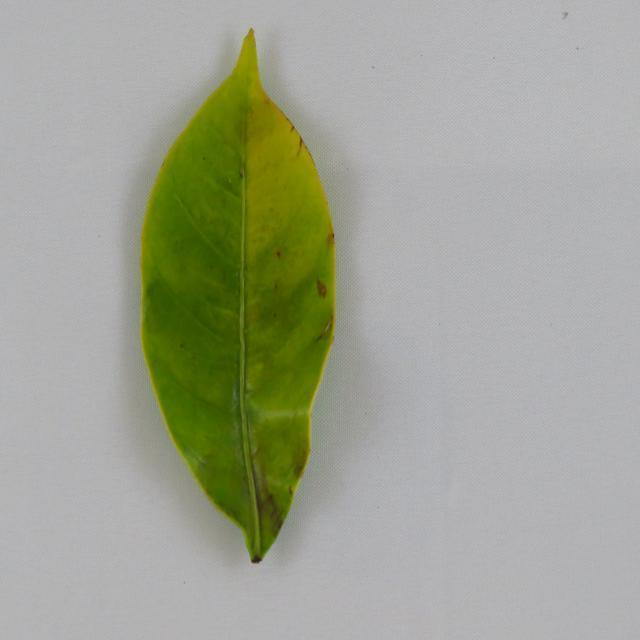DeficienciaNutricional-Nitrogeno: (149, 29, 340, 559)
